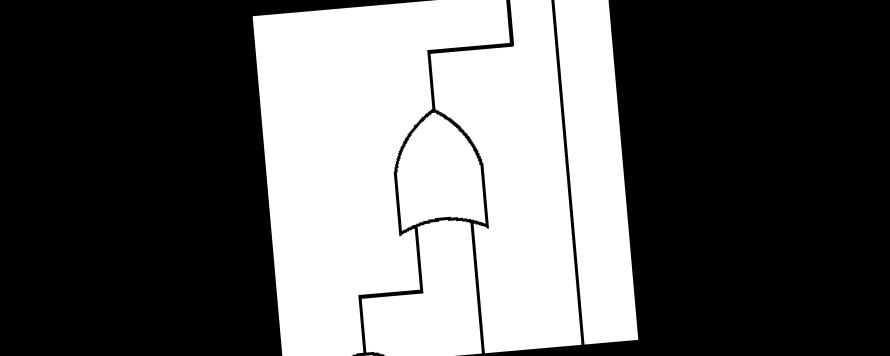or: (381, 95, 497, 242)
